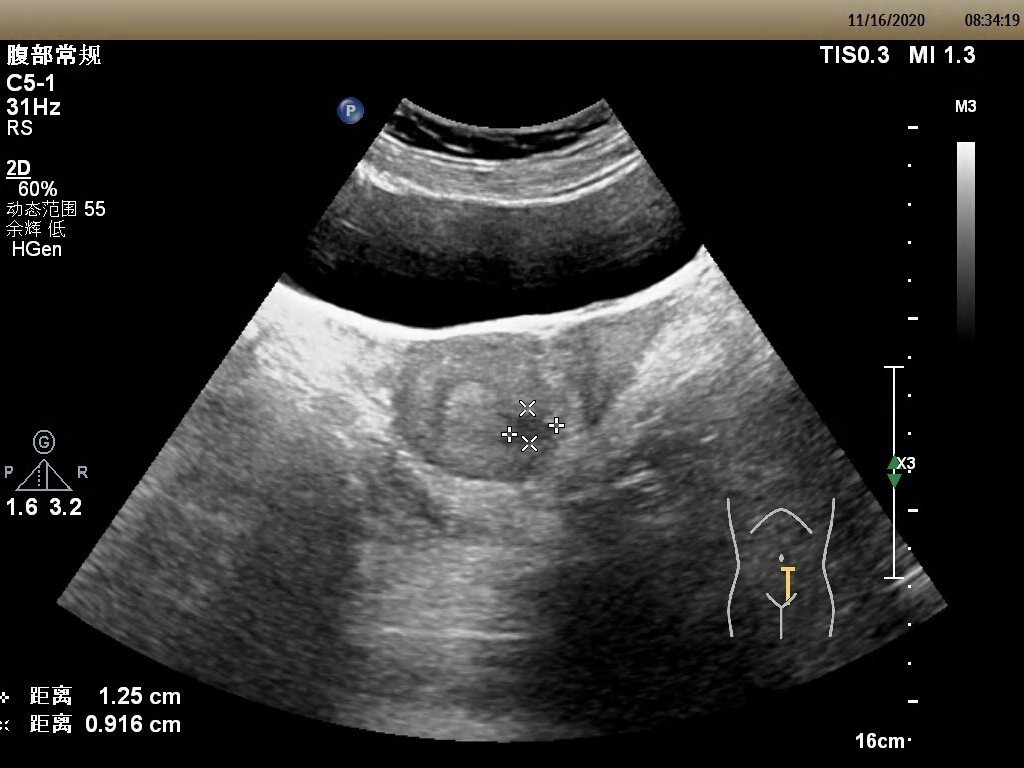肌瘤: (508, 410, 551, 441)
